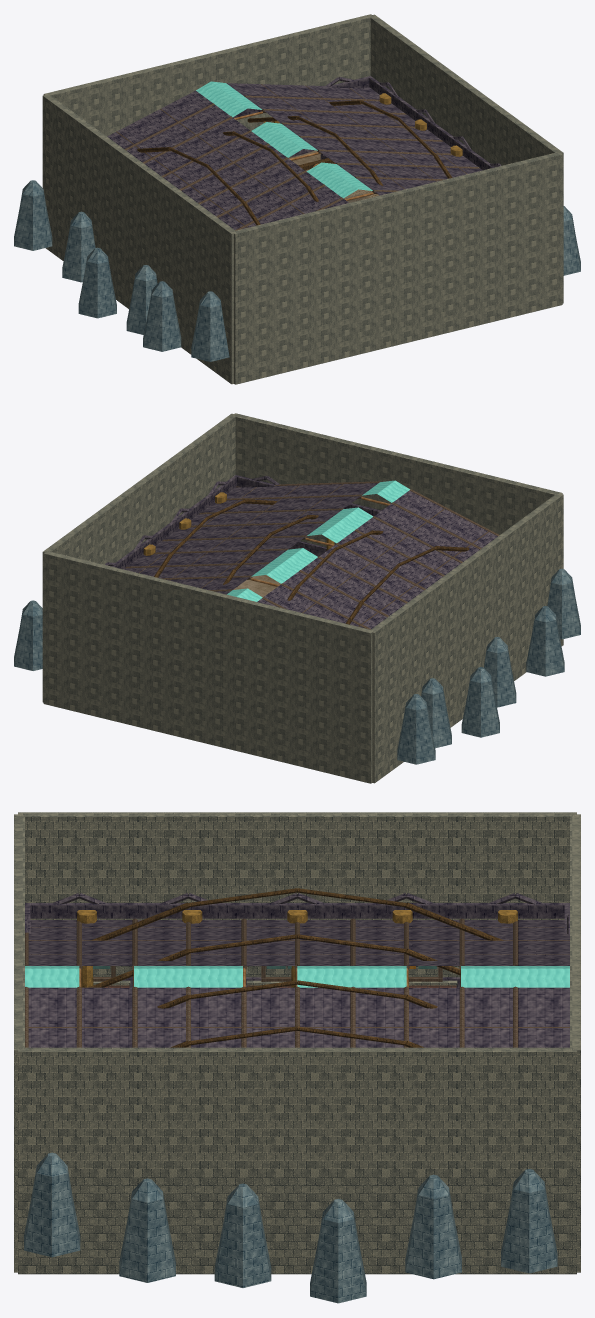
Rendered from MouldLoft-d5ad5e5abcbc.glb.
The picture shows the model from 3 angles, top to bottom: view 1: azimuth 30°, elevation 25°; view 2: azimuth 150°, elevation 25°; view 3: azimuth 270°, elevation 25°; orthographic projection. The views are drawn at different scales.
Visible parts, largest first — view 1: C_Solids, Rim, Horizon, Terrain; view 2: C_Solids, Rim, Horizon, Terrain; view 3: C_Solids, Rim, Horizon.
Part boxes in pixels (box(x1,y1,x2,y2)): C_Solids: box(42, 14, 563, 384); Rim: box(107, 76, 501, 230); Horizon: box(14, 180, 580, 361); Terrain: box(288, 150, 379, 202); C_Solids: box(42, 413, 563, 783); Rim: box(105, 475, 499, 629); Horizon: box(14, 568, 580, 764); Terrain: box(233, 575, 280, 597); C_Solids: box(14, 812, 580, 1274); Rim: box(25, 888, 569, 1047); Horizon: box(24, 1152, 557, 1303).
Bounding box in the file's own units: 52.8 × 18 × 41.6.
Materials: 16 (16 with a texture image).
